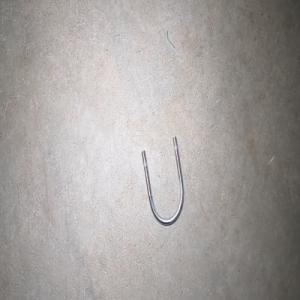ClampPart: (141, 135, 184, 226)
